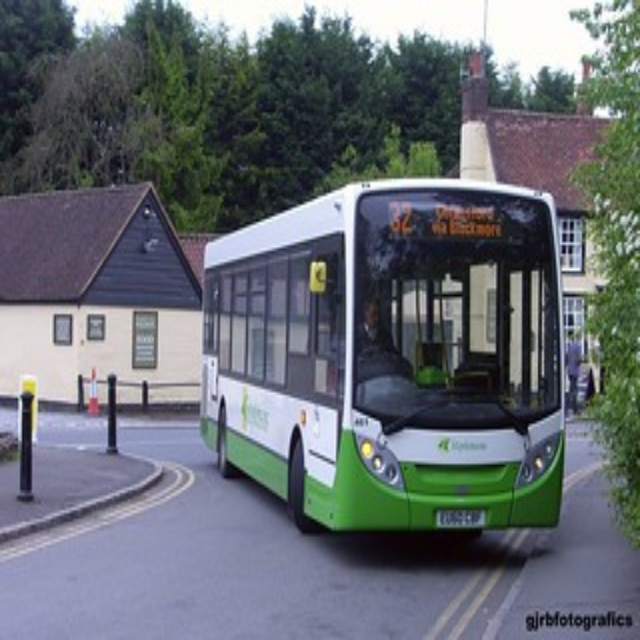Bus: (200, 176, 564, 533)
